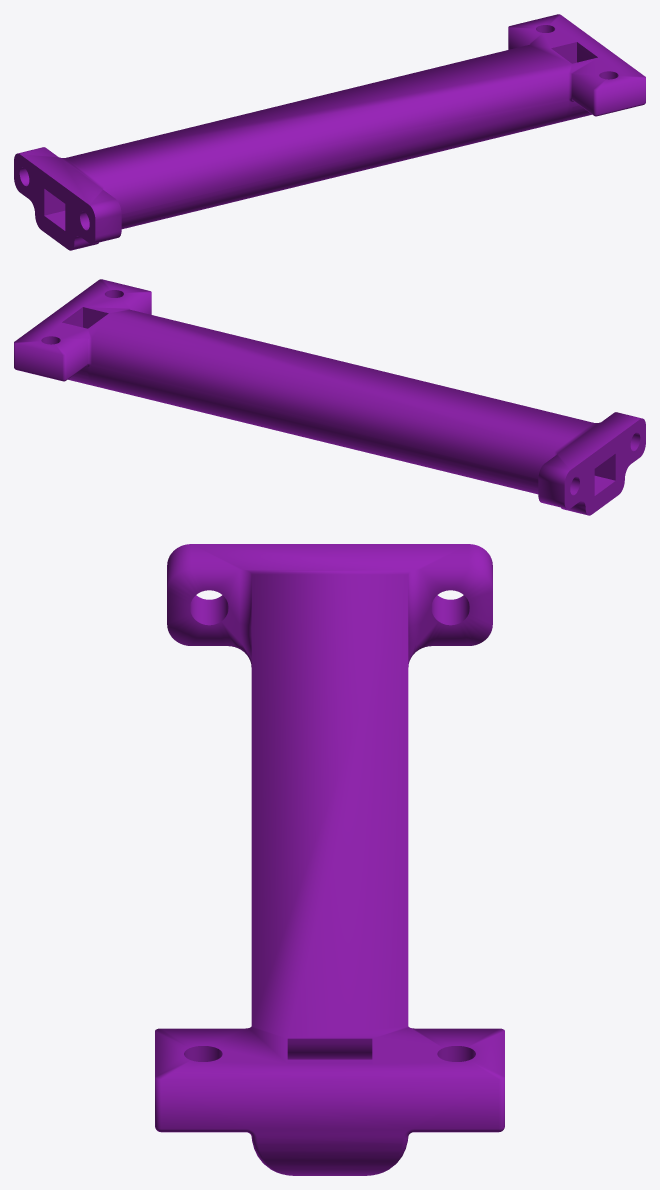
File: serwoLine.obj
3 renders of one model, top to bottom at view 1: azimuth 30°, elevation 25°; view 2: azimuth 150°, elevation 25°; view 3: azimuth 270°, elevation 25°, orthographic. The views are drawn at different scales.
Parts seen in each view (by area): view 1: servoLine; view 2: servoLine; view 3: servoLine.
Part boxes in pixels (bbox=[...]): servoLine: bbox=[14, 14, 645, 250]; servoLine: bbox=[14, 279, 645, 515]; servoLine: bbox=[155, 544, 504, 1175].
Size of the model in its own units: 105 by 11 by 29.
